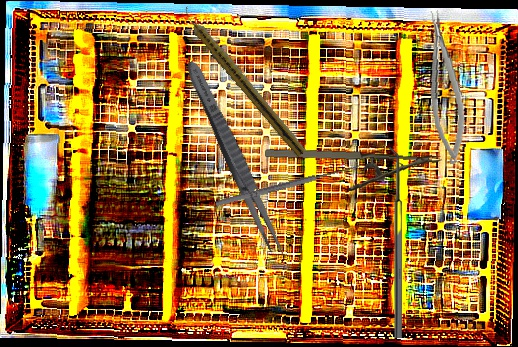Dressing Forceps: (180, 57, 291, 262)
Handpiece: (177, 4, 310, 158)
Hook Surgical: (213, 155, 362, 210)
Needle Holder: (262, 143, 443, 198), (423, 8, 469, 166)
Spatula Surgical: (387, 147, 402, 338)
